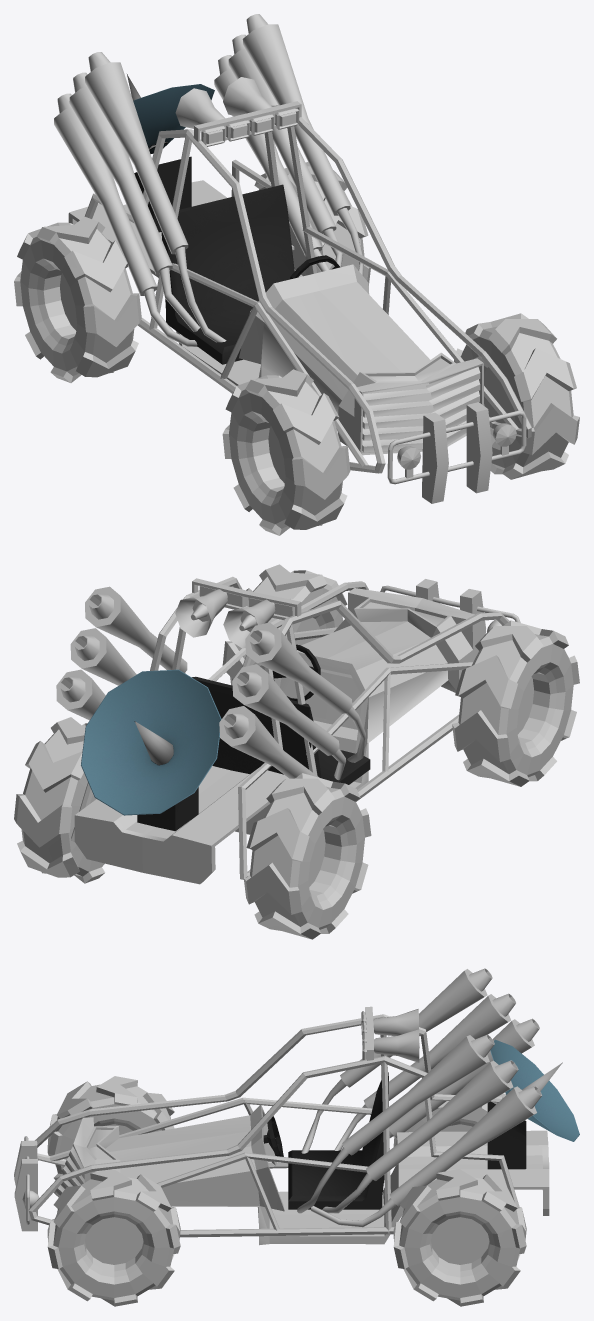
The model's file is buggy_4.FBX.
3 renders of one model, top to bottom at view 1: azimuth 30°, elevation 25°; view 2: azimuth 150°, elevation 25°; view 3: azimuth 270°, elevation 25°, orthographic. The views are drawn at different scales.
Parts seen in each view (by area): view 1: Buggy_4_body, buggy_4_seat, buggy_4_left_front_tyre, buggy_4_left_back_tyre, buggy_4_right_front_tyre, buggy_4_right_back_tyre; view 2: Buggy_4_body, buggy_4_seat, buggy_4_left_front_tyre, buggy_4_left_back_tyre, buggy_4_right_back_tyre, buggy_4_right_front_tyre; view 3: Buggy_4_body, buggy_4_right_back_tyre, buggy_4_right_front_tyre, buggy_4_seat, buggy_4_left_front_tyre, buggy_4_left_back_tyre, buggy_4_steering.
Boxes of the visible parts, <box> form: Buggy_4_body: <box>54,14,531,503</box>; buggy_4_seat: <box>127,74,294,364</box>; buggy_4_left_front_tyre: <box>222,369,350,535</box>; buggy_4_left_back_tyre: <box>14,216,141,382</box>; buggy_4_right_front_tyre: <box>454,313,579,479</box>; buggy_4_right_back_tyre: <box>254,162,370,285</box>; Buggy_4_body: <box>56,576,520,884</box>; buggy_4_seat: <box>81,669,370,831</box>; buggy_4_left_front_tyre: <box>452,620,579,786</box>; buggy_4_left_back_tyre: <box>244,773,371,939</box>; buggy_4_right_back_tyre: <box>14,717,105,883</box>; buggy_4_right_front_tyre: <box>222,564,347,685</box>; Buggy_4_body: <box>14,968,549,1245</box>; buggy_4_right_back_tyre: <box>393,1169,526,1306</box>; buggy_4_right_front_tyre: <box>47,1169,180,1306</box>; buggy_4_seat: <box>288,1039,579,1209</box>; buggy_4_left_front_tyre: <box>47,1076,174,1180</box>; buggy_4_left_back_tyre: <box>393,1093,505,1146</box>; buggy_4_steering: <box>263,1116,283,1156</box>.
Bounding box in the file's own units: 175 × 177 × 363.
